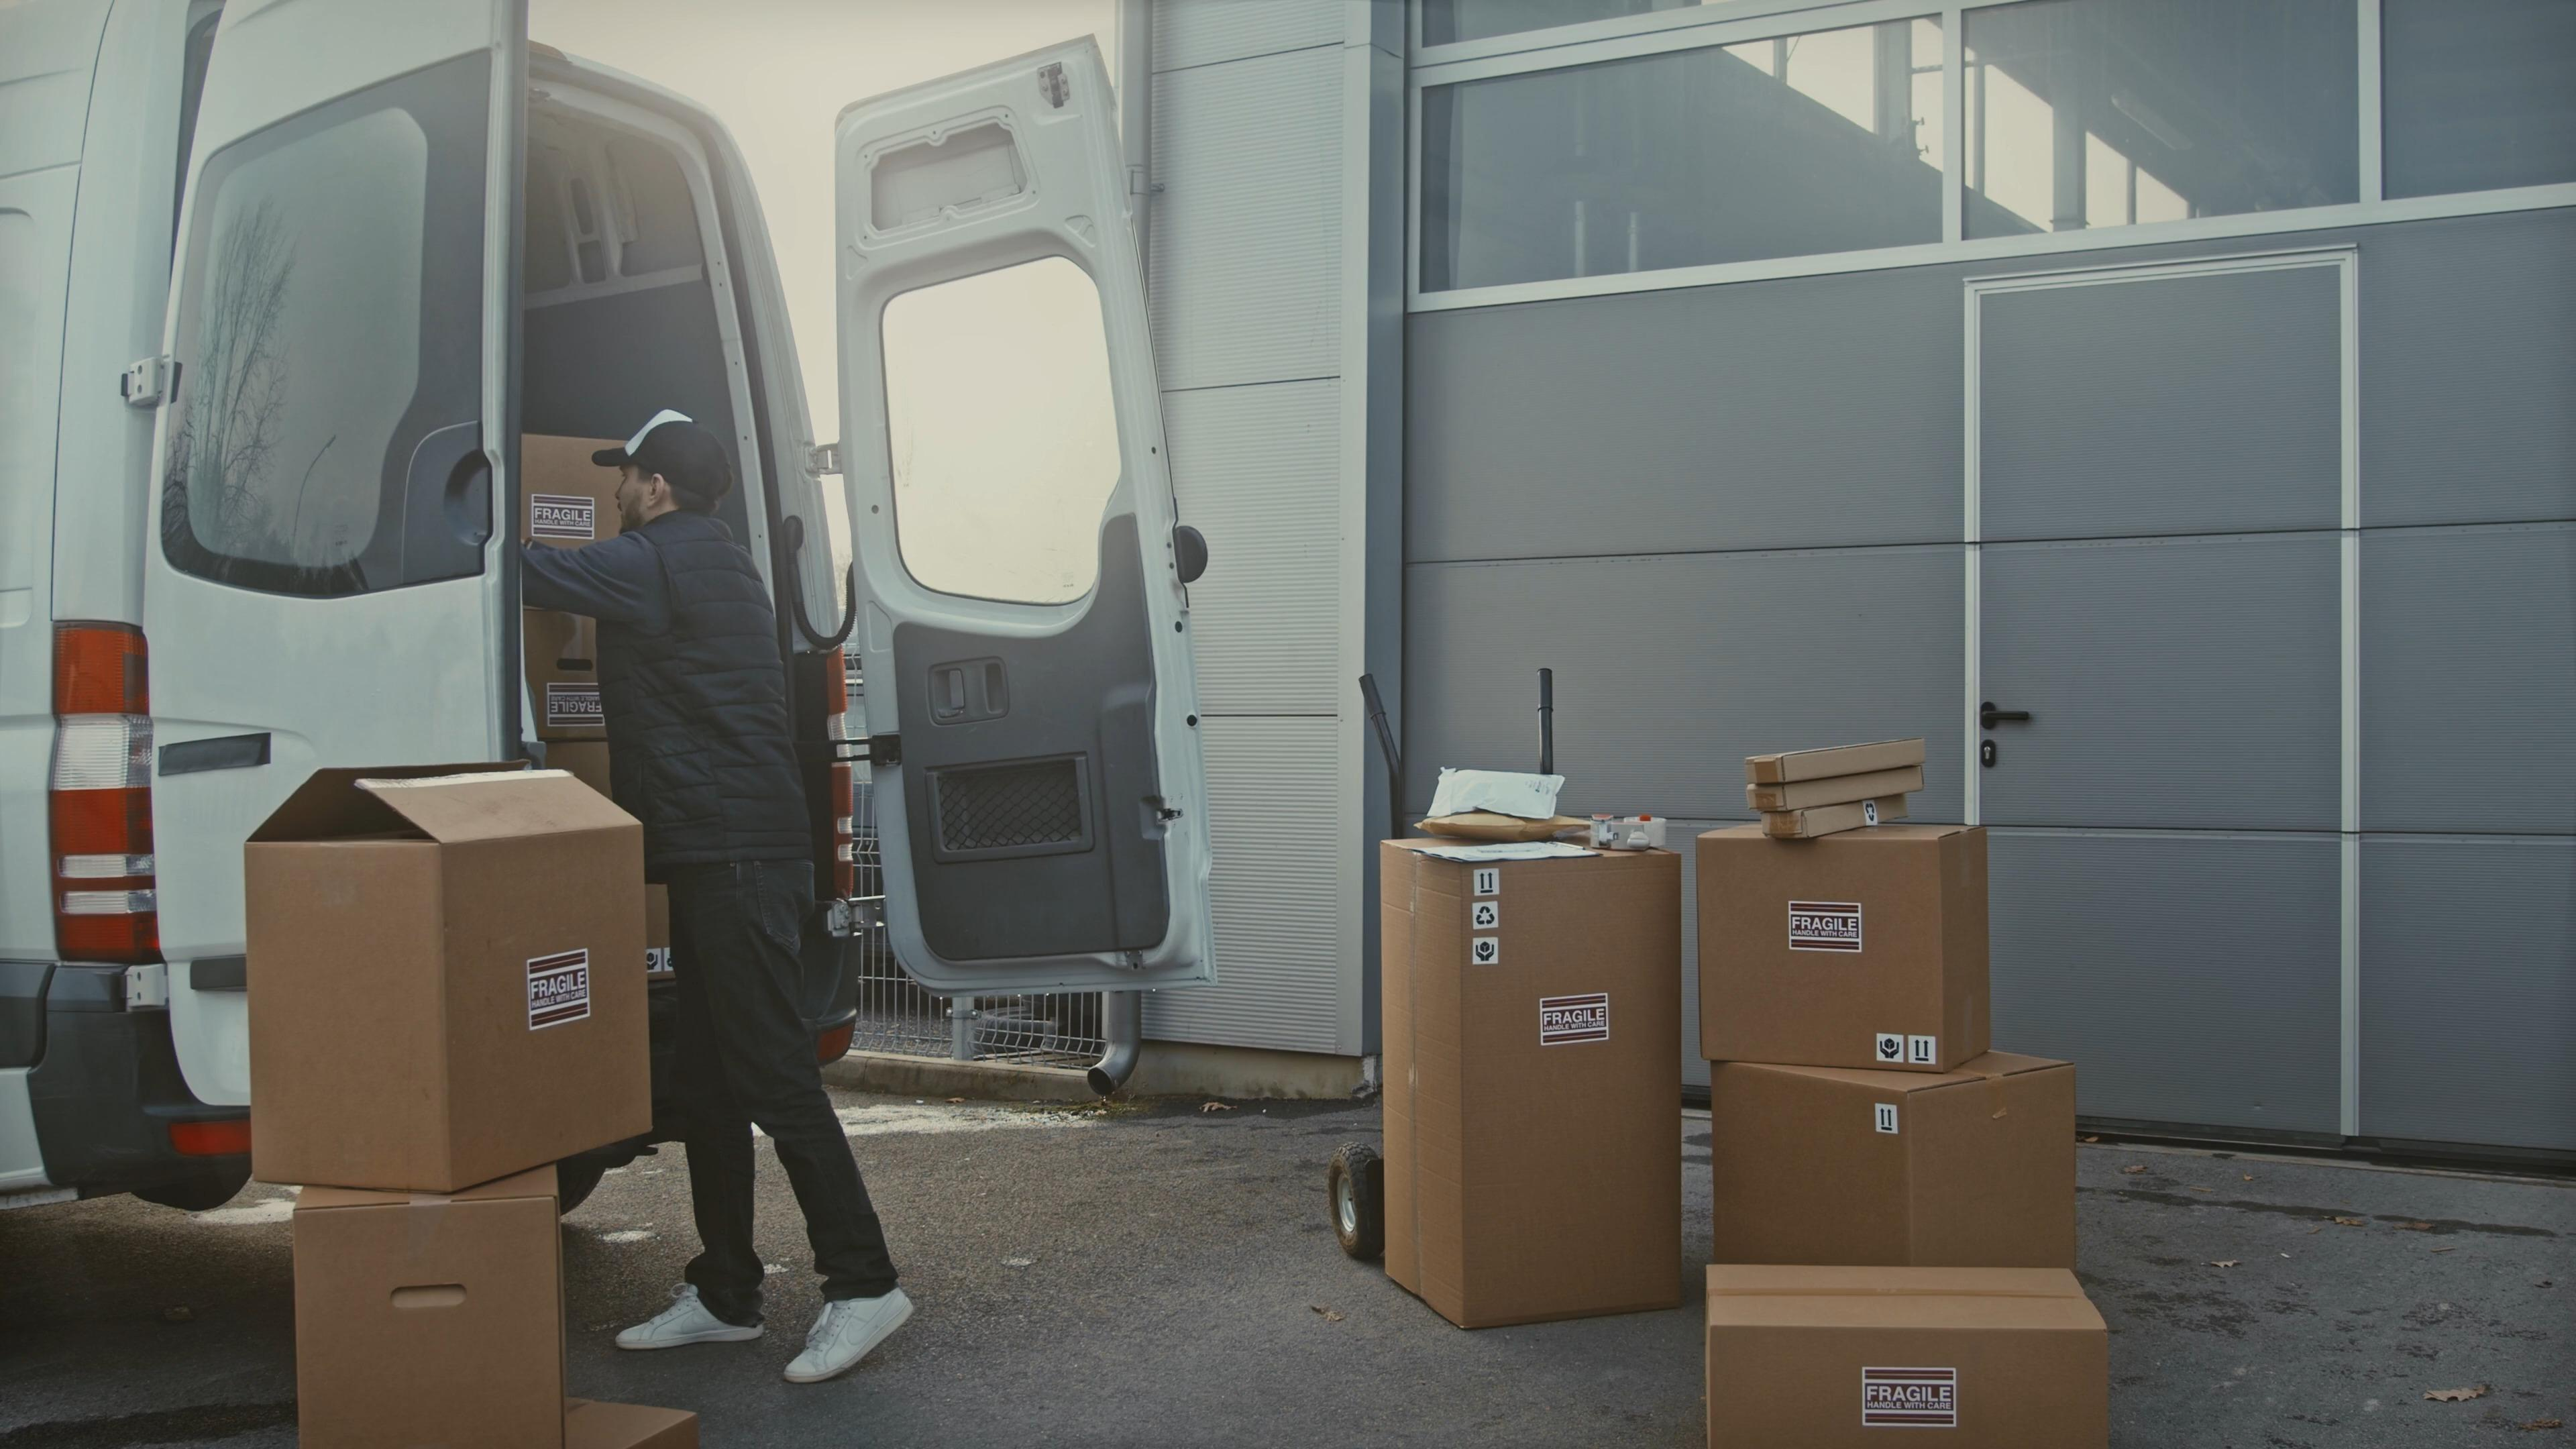-: (253, 766, 648, 1189), (1382, 828, 1684, 1330), (1711, 1053, 2088, 1274), (281, 1171, 566, 1449), (1707, 1265, 2109, 1449), (1697, 821, 1985, 1070), (1748, 736, 1936, 773), (1748, 777, 1927, 809), (1757, 803, 1886, 835)
